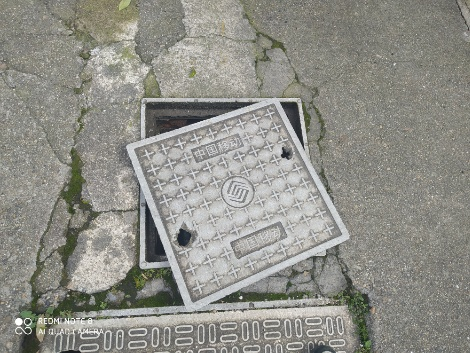uncovered: (124, 96, 350, 308)
